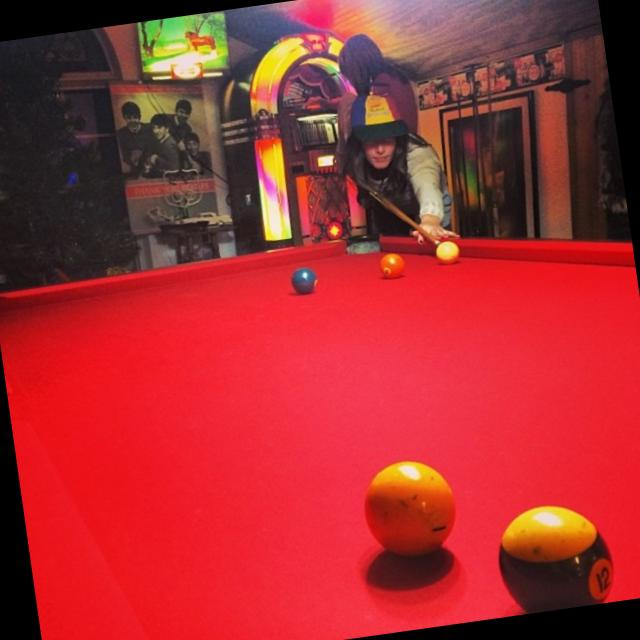Ball: (493, 498, 618, 617), (357, 453, 463, 564), (379, 250, 406, 284), (292, 266, 318, 296), (435, 238, 458, 262)
